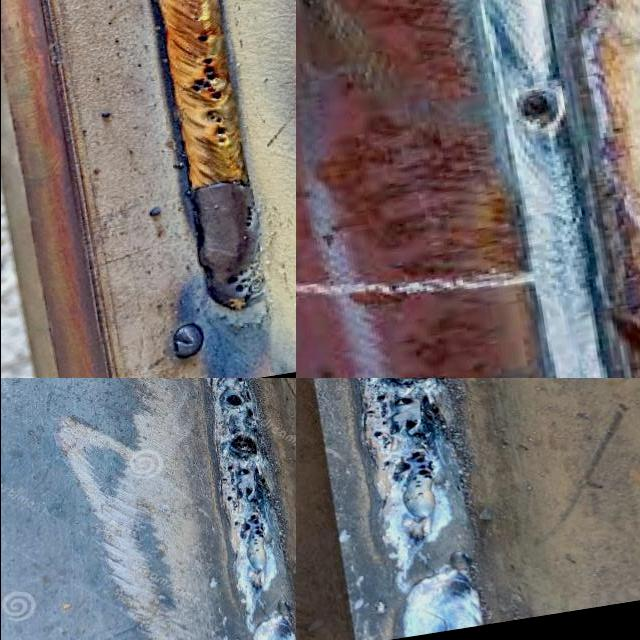defect: (219, 463, 273, 558), (504, 83, 570, 135), (380, 447, 436, 504), (207, 378, 261, 420), (180, 51, 222, 102), (224, 262, 258, 295), (225, 431, 259, 461), (204, 108, 230, 146), (417, 391, 448, 422), (238, 204, 259, 236), (401, 419, 429, 442), (382, 378, 431, 387), (194, 31, 211, 47), (391, 396, 414, 405), (380, 439, 393, 450), (362, 408, 376, 416), (371, 430, 383, 439), (374, 394, 386, 402), (377, 419, 390, 426)
